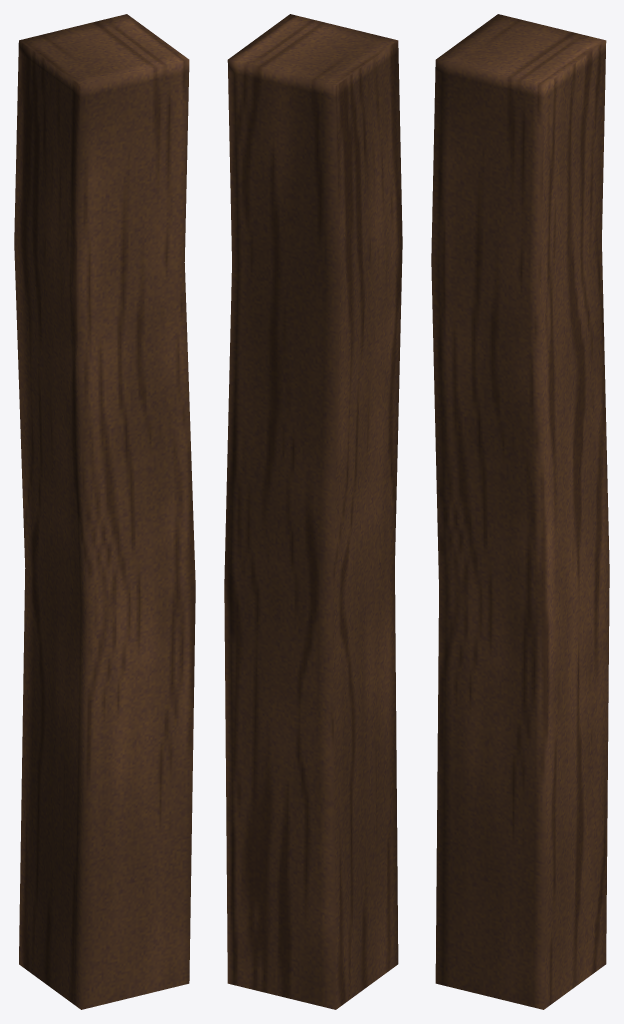
The model's file is Fence_GlassPool.fbx.
The picture shows the model from 3 angles, left to right: view 1: azimuth 30°, elevation 25°; view 2: azimuth 150°, elevation 25°; view 3: azimuth 330°, elevation 25°; orthographic projection.
Parts seen in each view (by area): view 1: pool; view 2: pool; view 3: pool.
Boxes of the visible parts, left/top/right/bottom form: pool: left=14, top=14, right=195, bottom=1009; pool: left=224, top=14, right=402, bottom=1009; pool: left=431, top=14, right=609, bottom=1009.
Bounding box in the file's own units: 0.00916 × 0.0689 × 0.00865.
1 material, 1 textured.
